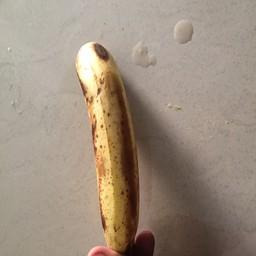Banana Ripe: (56, 36, 168, 256)
